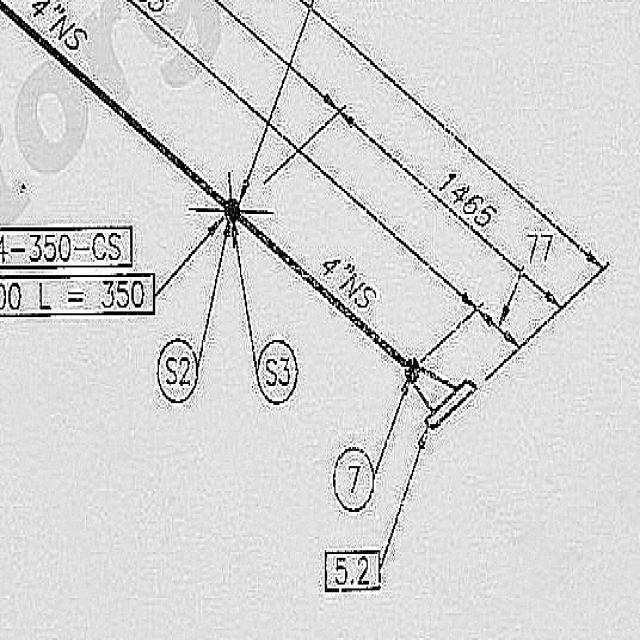Item number: (1, 223, 137, 270), (323, 546, 384, 595)
Measrement: (294, 0, 606, 280), (122, 2, 289, 155)
Pipeline: (2, 2, 235, 217), (241, 207, 428, 404)
Weld number: (155, 335, 203, 410), (254, 336, 301, 410), (332, 443, 377, 517)
other: (0, 268, 156, 325)
